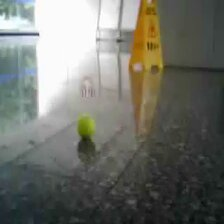tennis: (77, 115, 95, 138)
